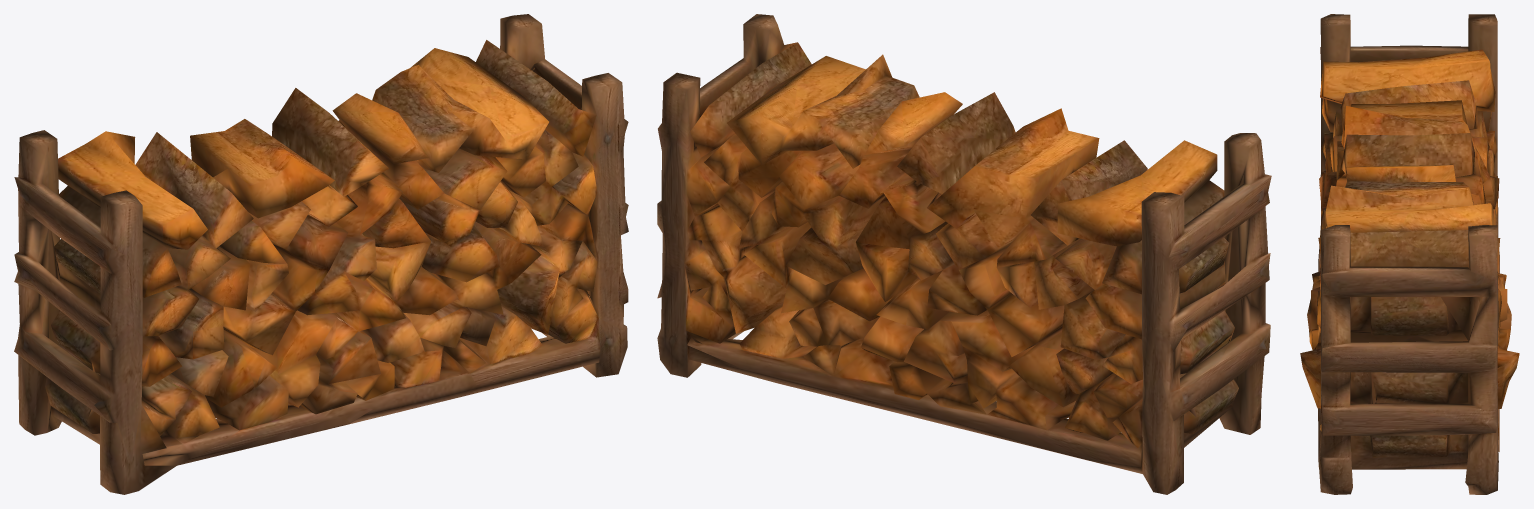
File: odun-yigini.glb
3 views of the same model, side by side, from view 1: azimuth 30°, elevation 25°; view 2: azimuth 150°, elevation 25°; view 3: azimuth 270°, elevation 25° (orthographic). The views are drawn at different scales.
Parts seen in each view (by area): view 1: tripo_node_63271eb8-3dda-48b5-adf6-ffcc05a465bc; view 2: tripo_node_63271eb8-3dda-48b5-adf6-ffcc05a465bc; view 3: tripo_node_63271eb8-3dda-48b5-adf6-ffcc05a465bc.
Boxes of the visible parts, x1=… form: tripo_node_63271eb8-3dda-48b5-adf6-ffcc05a465bc: x1=14, y1=14, x2=628, y2=494; tripo_node_63271eb8-3dda-48b5-adf6-ffcc05a465bc: x1=657, y1=14, x2=1271, y2=494; tripo_node_63271eb8-3dda-48b5-adf6-ffcc05a465bc: x1=1300, y1=14, x2=1519, y2=494.
Bounding box in the file's own units: 0.9809 × 0.511 × 0.3929.
1 material, 1 textured.
